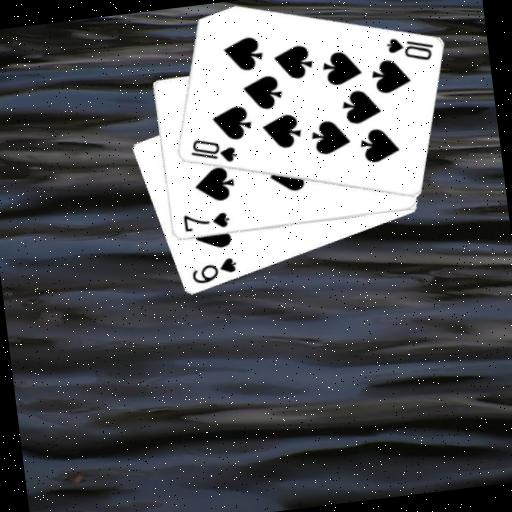10S: (382, 31, 436, 68), (186, 132, 239, 169)
6S: (187, 254, 240, 287)
7S: (180, 208, 232, 235)
